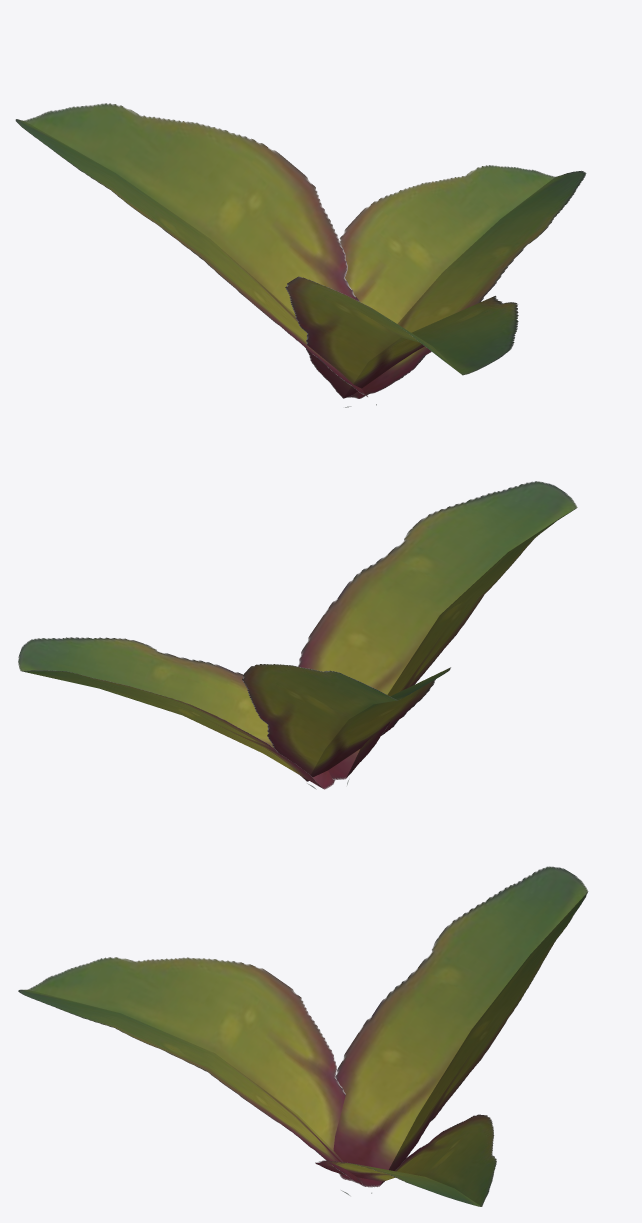
File: lisc triple.fbx
3 views of the same model, one above another, from view 1: azimuth 30°, elevation 25°; view 2: azimuth 150°, elevation 25°; view 3: azimuth 270°, elevation 25° (orthographic). The views are drawn at different scales.
Visible parts, largest first — view 1: Plane; view 2: Plane; view 3: Plane.
Boxes of the visible parts, box(x1,y1,x2,y2) form: Plane: box(15, 103, 586, 407); Plane: box(18, 481, 577, 789); Plane: box(18, 866, 588, 1206).
Size of the model in its own units: 18.12 by 9.8 by 19.59.
